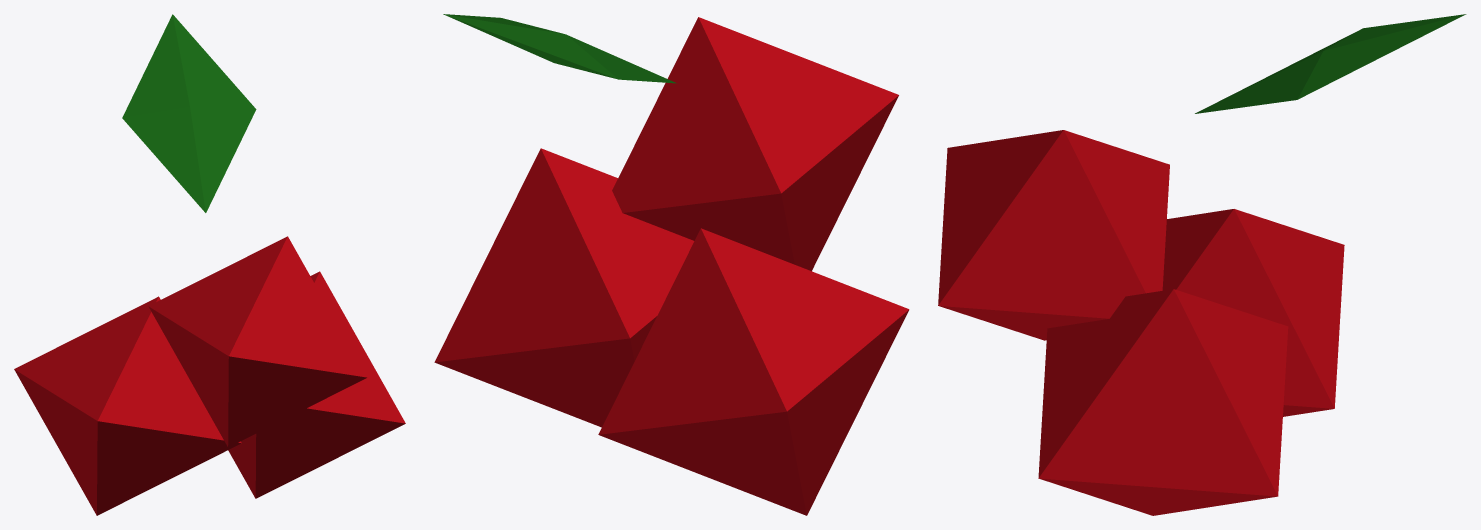
The model's file is food_berry_a.fbx.
3 renders of one model, left to right at view 1: azimuth 30°, elevation 25°; view 2: azimuth 150°, elevation 25°; view 3: azimuth 270°, elevation 25°, orthographic. The views are drawn at different scales.
Parts seen in each view (by area): view 1: food_berry_a; view 2: food_berry_a; view 3: food_berry_a.
Part boxes in pixels (left/top/right/bottom): food_berry_a: left=14, top=14, right=405, bottom=515; food_berry_a: left=434, top=14, right=909, bottom=515; food_berry_a: left=938, top=14, right=1466, bottom=515.
Size of the model in its own units: 72.17 by 95.38 by 87.09.
